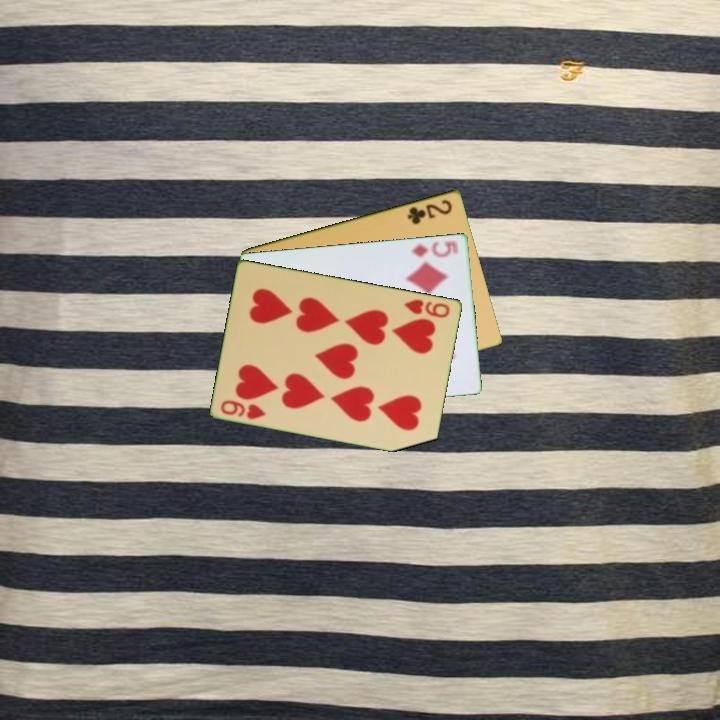2c: (404, 196, 455, 227)
5d: (408, 238, 462, 260)
9h: (217, 396, 269, 422), (401, 295, 453, 320)
